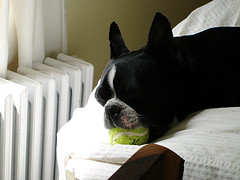tennis ball: (106, 121, 151, 148)
